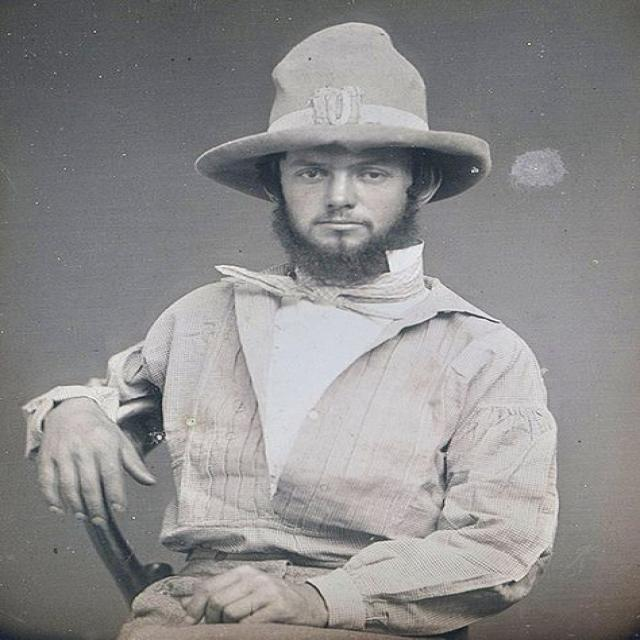hat: (196, 20, 498, 269)
